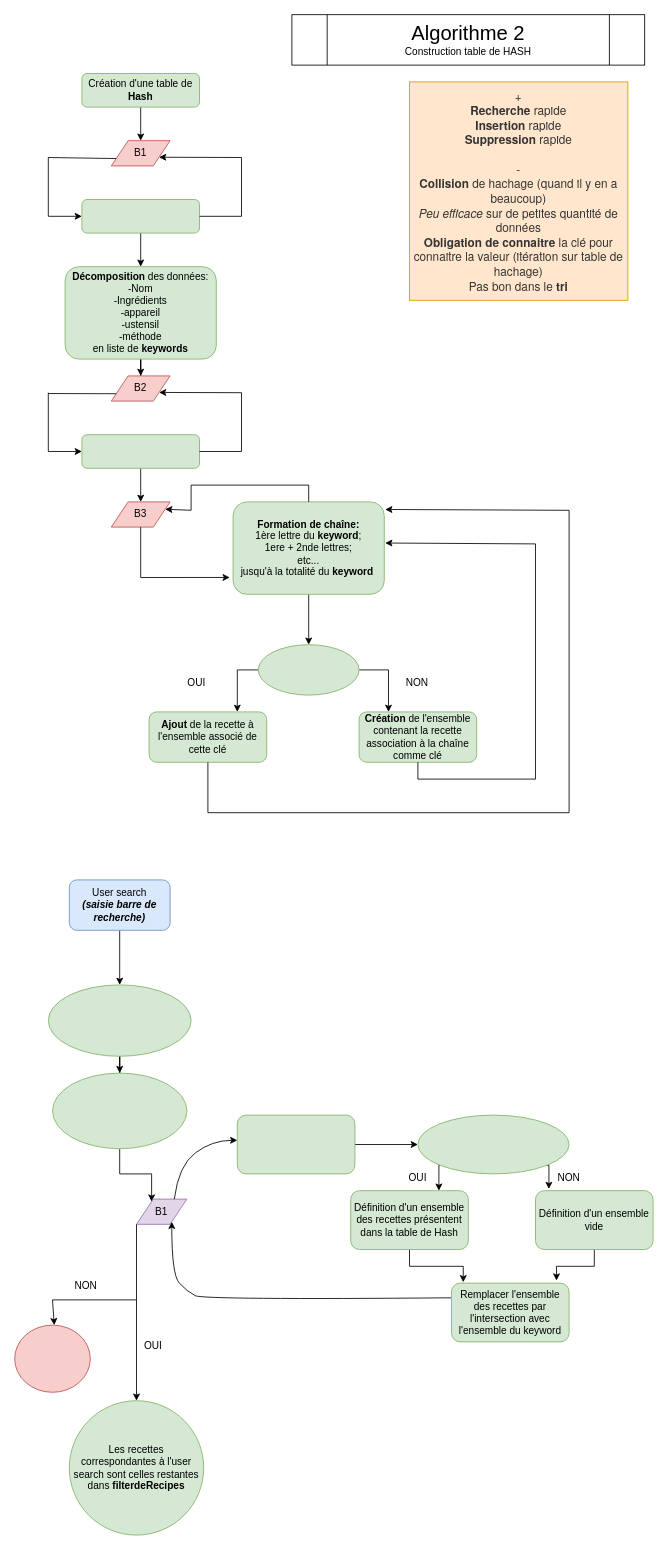
Some shapes in this 668 by 1550 pixel diagram are drawn without their labels. Each missing label, with the box of its shape:
Chaîne => clé dans la table de Hash ?: (257, 644, 359, 695)
Pas de concordance = message d'erreur: (14, 1324, 90, 1392)
pour chaque keyword: (236, 1114, 355, 1174)
Pour chaque keywords: (81, 434, 200, 468)
Pour chaque recette: (81, 199, 200, 233)
Recette(s) présente(nt) dans la table de Hash selon le keyword?: (417, 1114, 569, 1174)
Requête décomposée en KEYWORDS (-mots inutiles) = stop words: (47, 984, 191, 1056)
Toutes les recettes dans une base: (52, 1072, 187, 1149)
